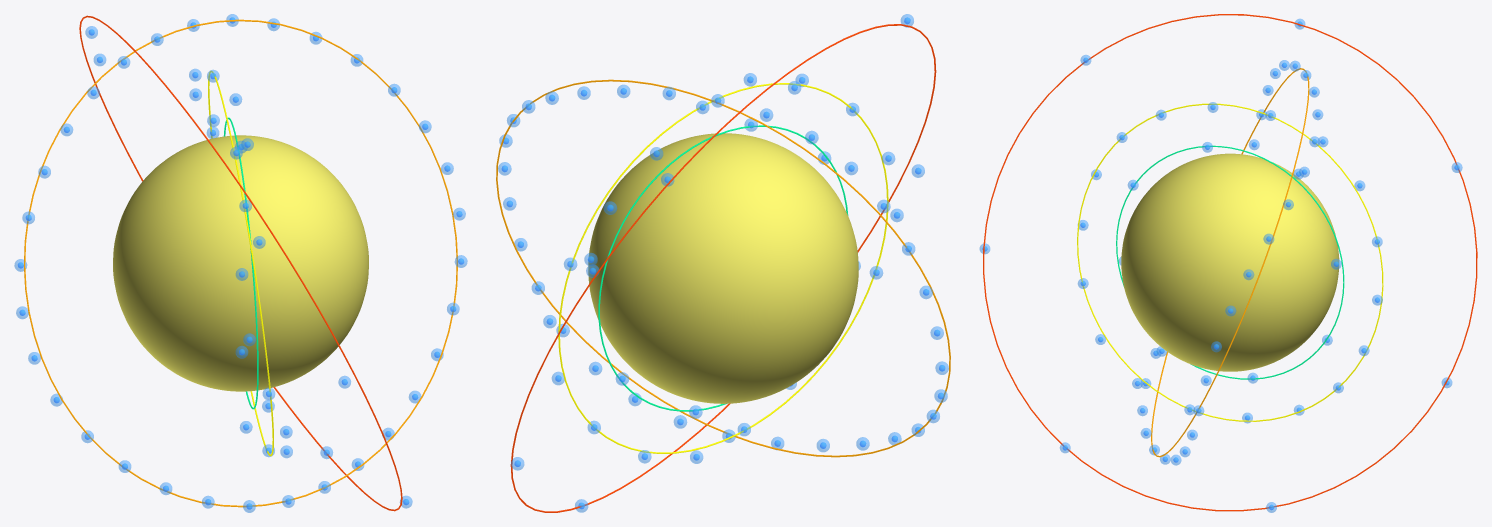
3 views of the same model, side by side, from view 1: azimuth 30°, elevation 25°; view 2: azimuth 150°, elevation 25°; view 3: azimuth 270°, elevation 25° (orthographic). The views are drawn at different scales.
Visible parts, largest first — view 1: Ho, object 61, object 126, object 24, object 7; view 2: Ho, object 61, object 126, object 24, object 7; view 3: Ho, object 126, object 24, object 61, object 7.
Boxes of the visible parts, left/top/right/bottom form: Ho: left=113, top=135, right=368, bottom=391; object 61: left=24, top=19, right=457, bottom=507; object 126: left=79, top=15, right=402, bottom=511; object 24: left=208, top=71, right=273, bottom=456; object 7: left=223, top=117, right=258, bottom=409; Ho: left=588, top=133, right=858, bottom=403; object 61: left=496, top=79, right=950, bottom=457; object 126: left=510, top=24, right=936, bottom=512; object 24: left=558, top=83, right=888, bottom=453; object 7: left=598, top=125, right=848, bottom=411; Ho: left=1121, top=153, right=1339, bottom=371; object 126: left=983, top=14, right=1477, bottom=511; object 24: left=1077, top=103, right=1383, bottom=421; object 61: left=1151, top=68, right=1309, bottom=457; object 7: left=1116, top=145, right=1344, bottom=379.
Bounding box in the file's own units: 6.16 × 6.55 × 7.22.
